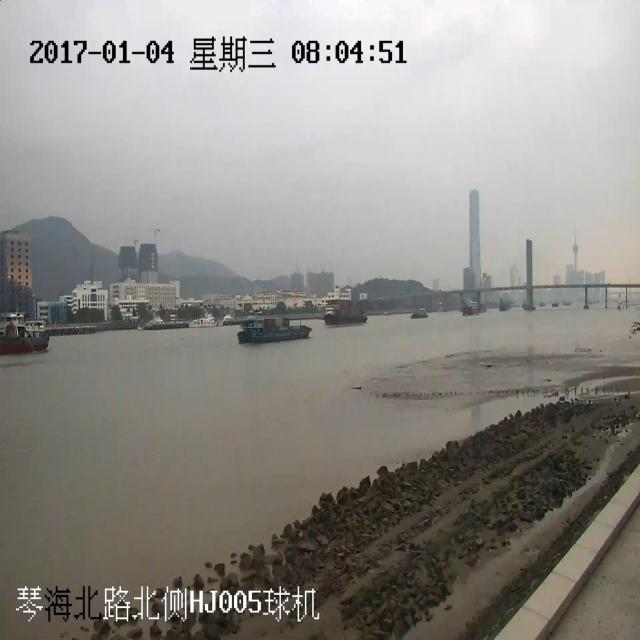cargoship: (239, 295, 315, 350), (5, 312, 69, 351), (324, 300, 378, 336), (413, 300, 429, 324)
